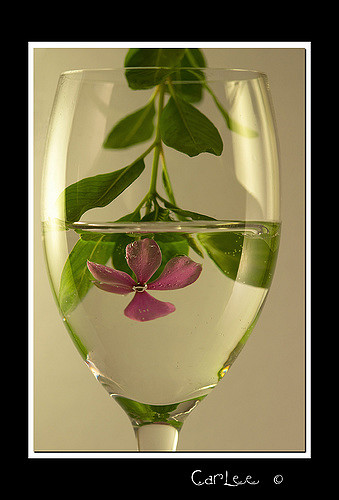glass of water: (60, 78, 255, 443)
